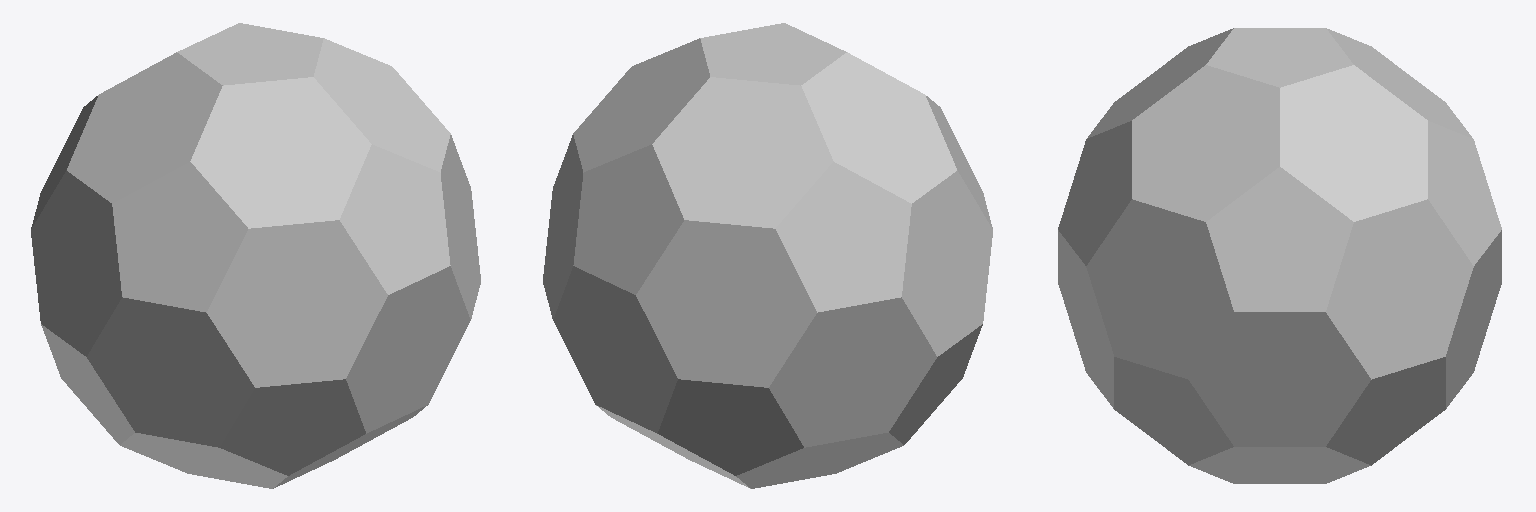
The model's file is VertexBall.obj.
The picture shows the model from 3 angles: view 1: azimuth 30°, elevation 25°; view 2: azimuth 150°, elevation 25°; view 3: azimuth 270°, elevation 25°; orthographic projection.
Parts seen in each view (by area): view 1: Solid.001; view 2: Solid.001; view 3: Solid.001.
Boxes of the visible parts, <box> form: Solid.001: <box>31,23,480,488</box>; Solid.001: <box>543,23,992,488</box>; Solid.001: <box>1058,28,1501,483</box>.
Size of the model in its own units: 2 by 2 by 2.